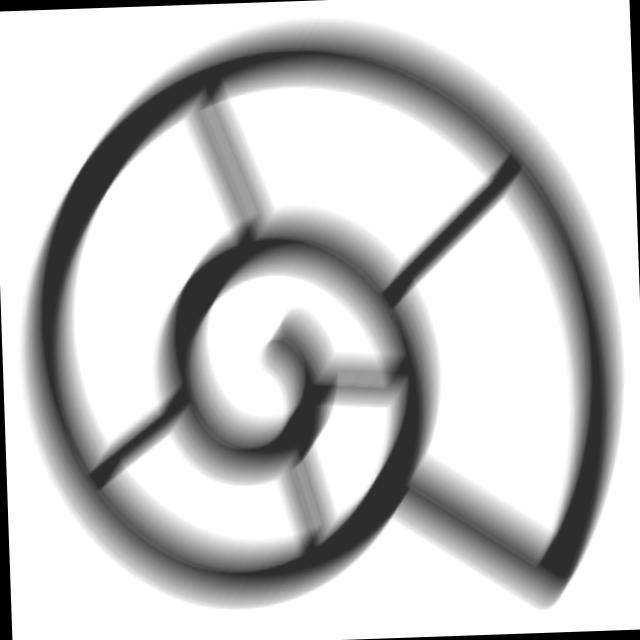fossil: (1, 5, 640, 630)
